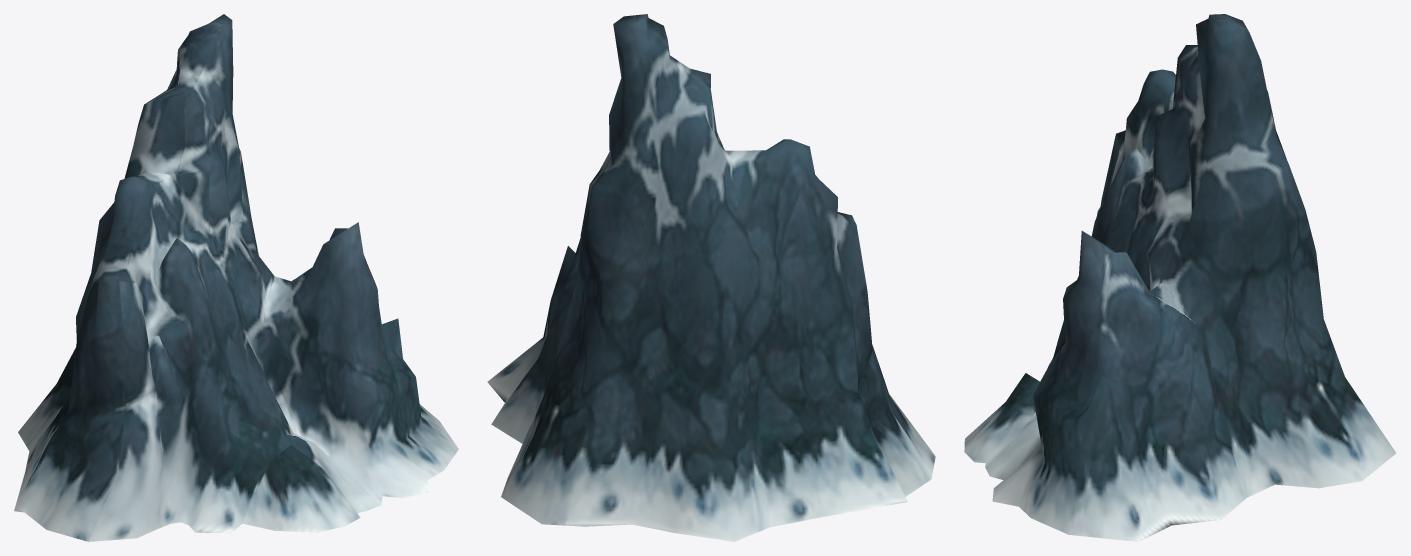
File: 3-1_shishan4.FBX
3 renders of one model, left to right at view 1: azimuth 30°, elevation 25°; view 2: azimuth 150°, elevation 25°; view 3: azimuth 270°, elevation 25°, orthographic. The views are drawn at different scales.
Parts seen in each view (by area): view 1: 3-1_shishan4; view 2: 3-1_shishan4; view 3: 3-1_shishan4.
Part boxes in pixels (bbox=[...]): 3-1_shishan4: bbox=[14, 14, 458, 541]; 3-1_shishan4: bbox=[487, 14, 935, 541]; 3-1_shishan4: bbox=[964, 14, 1396, 541].
Size of the model in its own units: 2138 by 2073 by 1868.
